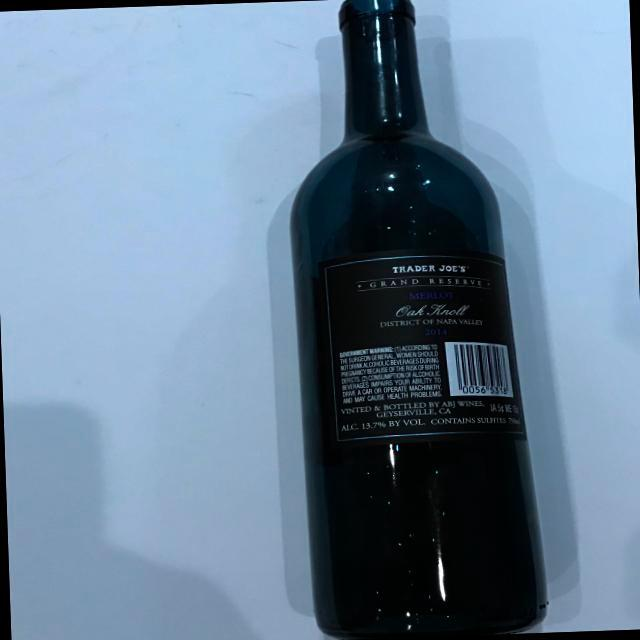glass: (246, 0, 562, 640)
